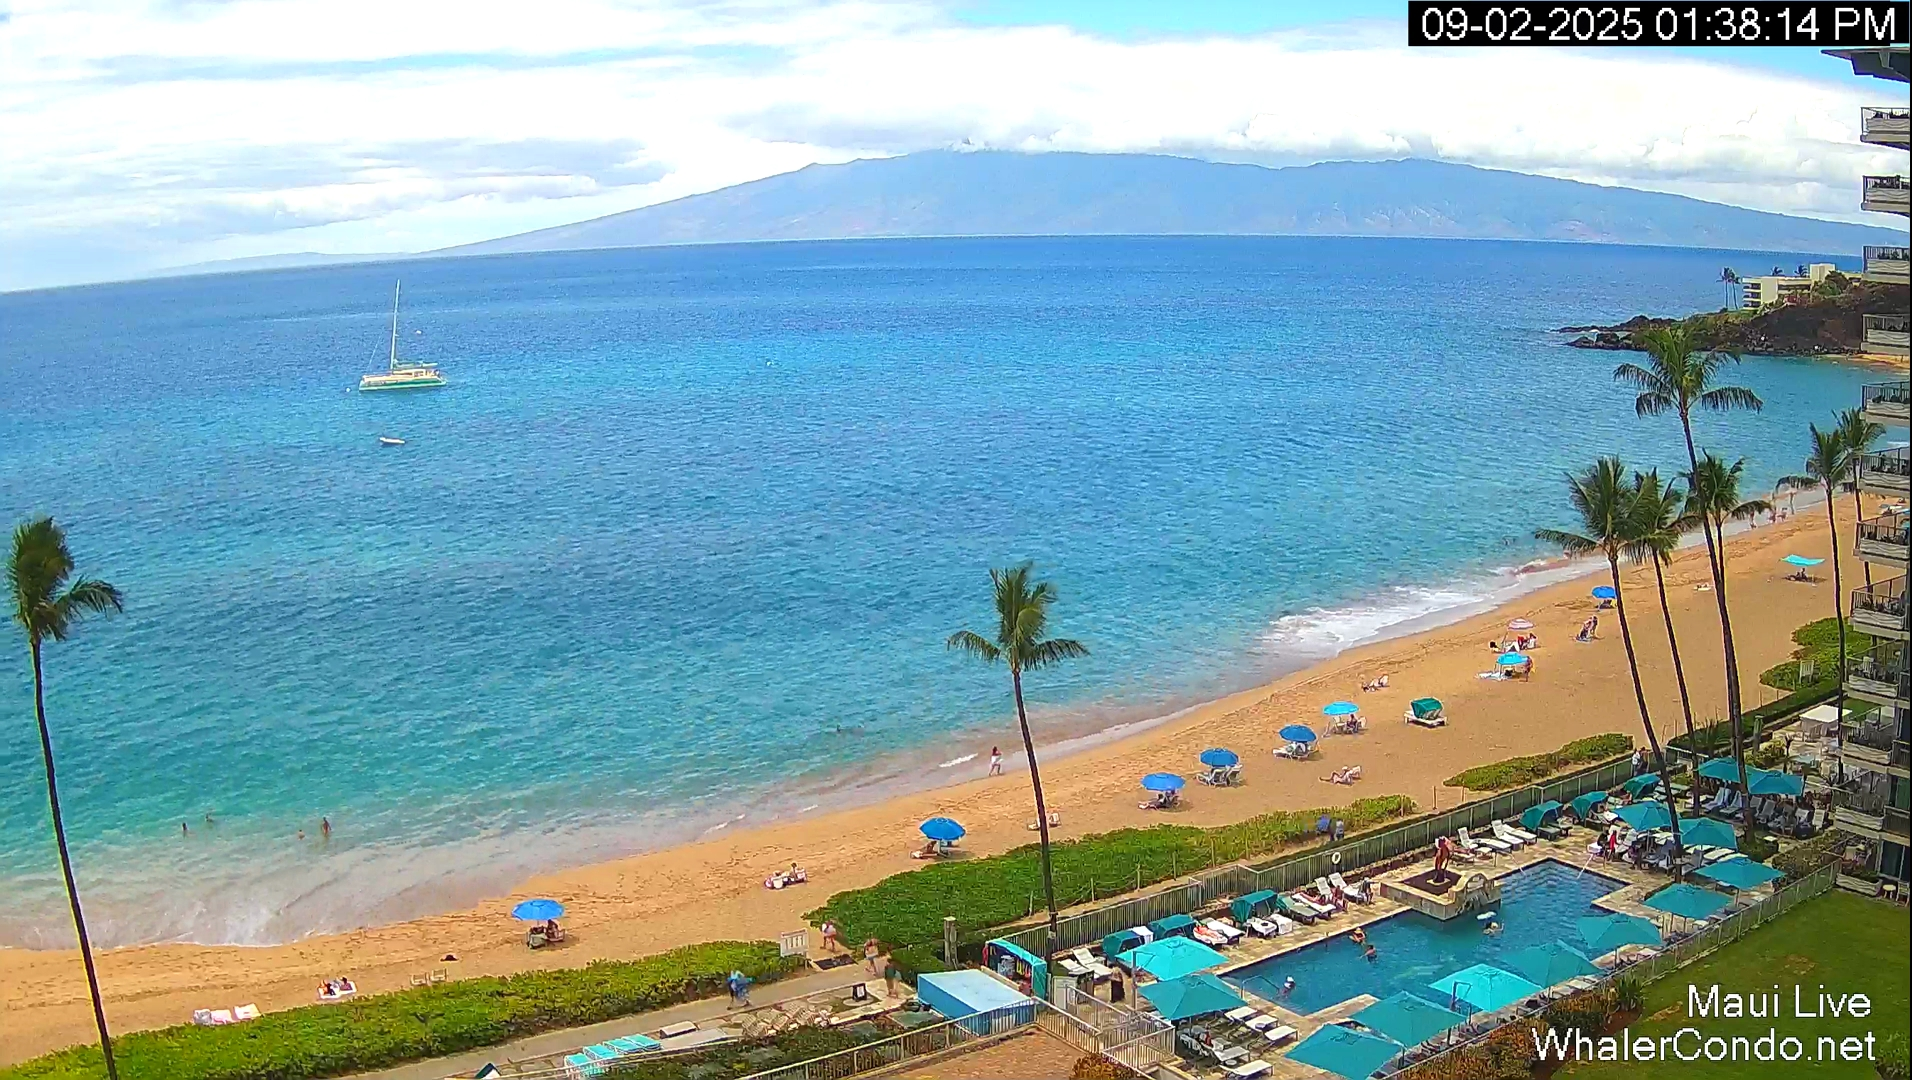boat: (358, 278, 446, 392), (479, 1032, 640, 1079), (764, 868, 808, 889)
person: (1320, 765, 1362, 784), (864, 939, 879, 975), (884, 960, 896, 997), (989, 746, 1003, 776), (823, 921, 836, 951), (893, 969, 903, 999), (317, 980, 335, 996), (1363, 945, 1377, 962), (1335, 819, 1344, 841), (338, 977, 352, 991), (322, 817, 332, 835), (790, 862, 799, 881), (1748, 512, 1757, 530), (1797, 567, 1807, 581), (297, 829, 306, 840), (205, 813, 214, 822), (182, 822, 189, 832)
